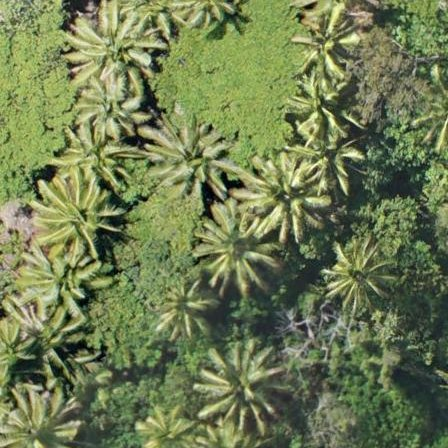palm_tree: (143, 109, 234, 206), (193, 339, 284, 436), (192, 199, 278, 291), (66, 1, 153, 90), (241, 147, 325, 237), (33, 173, 115, 260), (324, 237, 395, 315), (68, 74, 143, 142), (288, 8, 362, 74), (1, 383, 70, 448), (290, 81, 357, 139), (150, 281, 212, 338), (135, 401, 192, 448)
